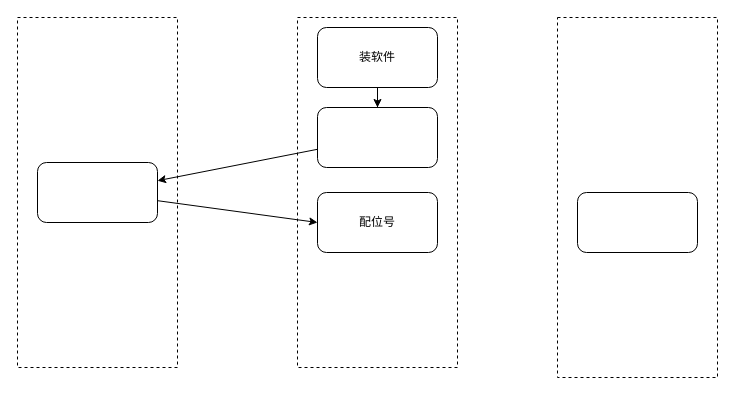
The diagram is 735 pixels wide and 395 high, and some of its shapes have lost their labels. Each missing label, with the box of its shape:
部署算法环境和 数据库环境: (316, 106, 438, 168)
部署龙葵系统和kafka: (36, 162, 158, 222)
